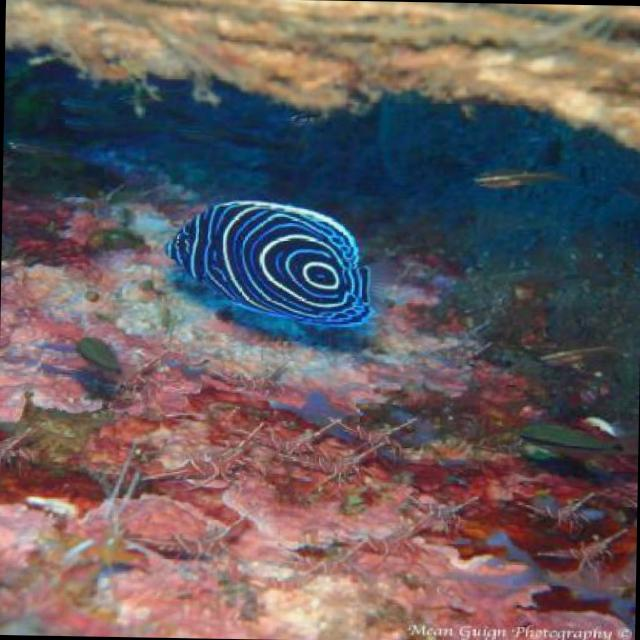AngelFish: (168, 198, 382, 337)
